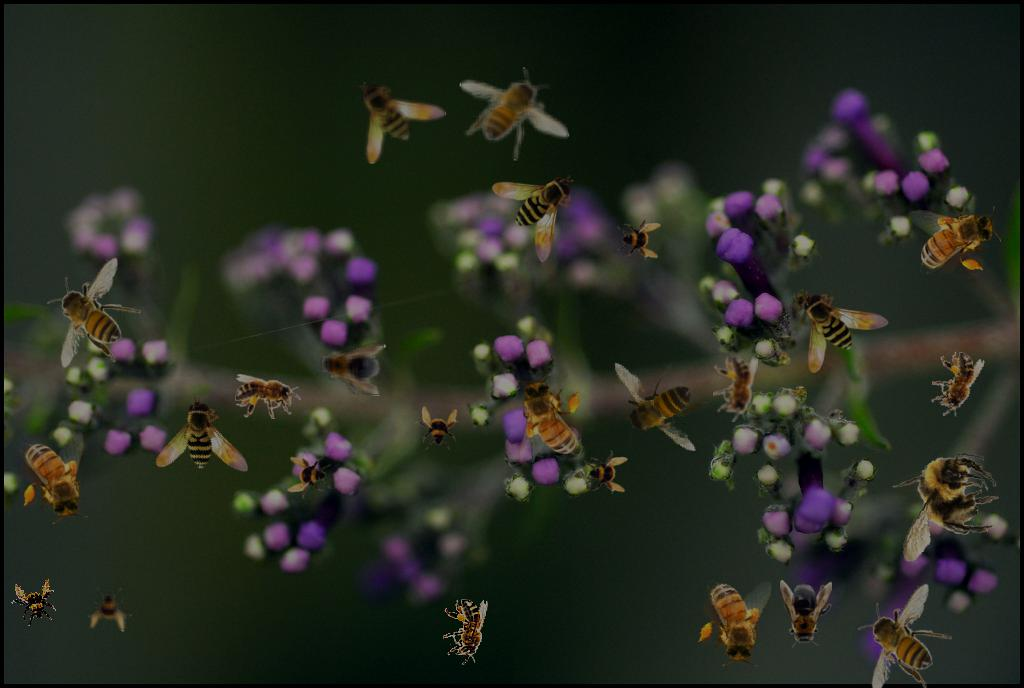Bee: (587, 338, 726, 468), (883, 444, 1004, 573), (147, 392, 267, 512), (459, 67, 570, 161), (47, 257, 141, 368), (858, 583, 952, 688), (690, 567, 778, 674), (801, 291, 889, 373), (492, 175, 574, 263), (359, 82, 447, 164), (515, 374, 583, 467), (908, 206, 1001, 274), (20, 431, 88, 524), (924, 346, 986, 423), (314, 339, 386, 397), (780, 580, 832, 648), (235, 374, 301, 419), (713, 356, 758, 422), (443, 599, 488, 665), (7, 575, 61, 629), (415, 406, 459, 450), (287, 455, 331, 499), (584, 450, 628, 494), (617, 216, 661, 260), (88, 588, 132, 632)
